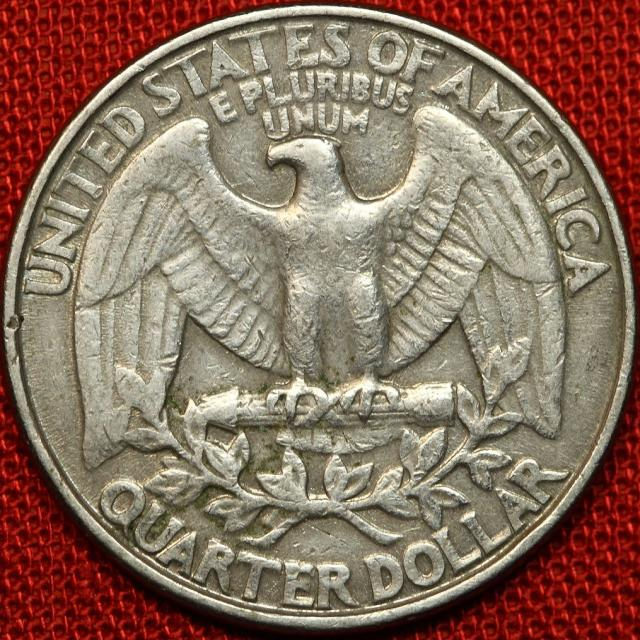Coin: (2, 0, 640, 635)
